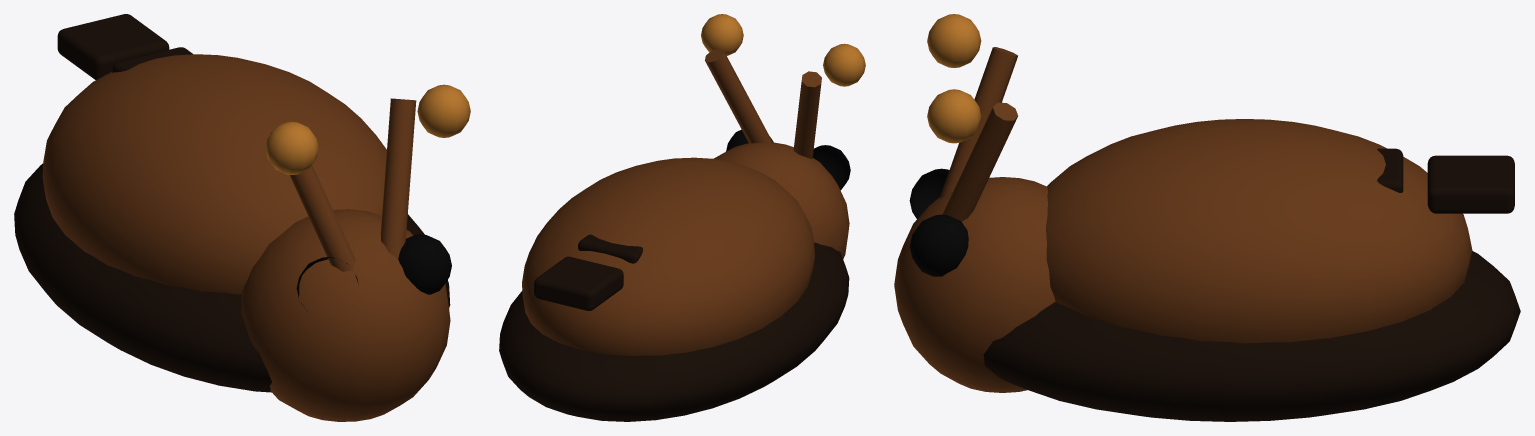
The model's file is roquito.obj.
The picture shows the model from 3 angles, left to right: view 1: azimuth 30°, elevation 25°; view 2: azimuth 150°, elevation 25°; view 3: azimuth 270°, elevation 25°; orthographic projection. The views are drawn at different scales.
Size of the model in its own units: 0.424 by 0.4007 by 0.6858.
